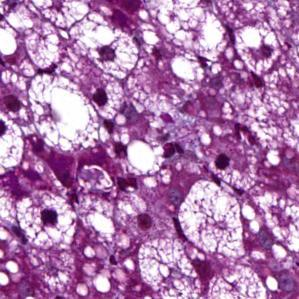ballooning: (26, 73, 112, 156), (62, 14, 144, 87), (175, 177, 246, 259), (14, 189, 80, 251)
